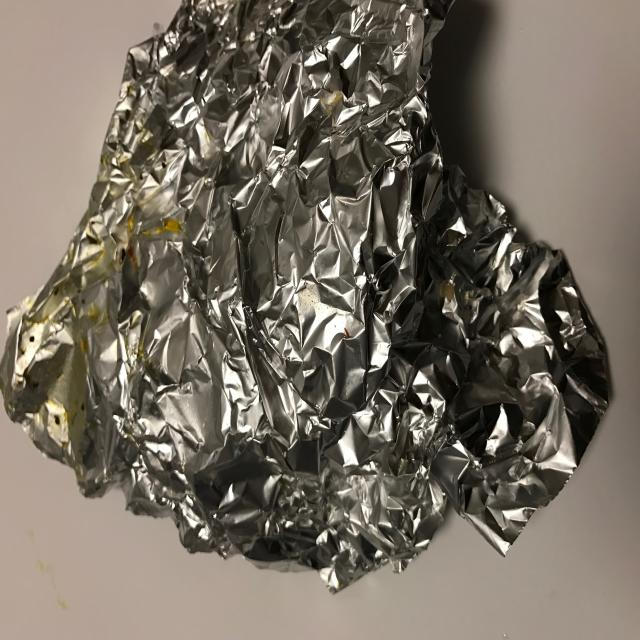metal: (0, 0, 611, 594)
